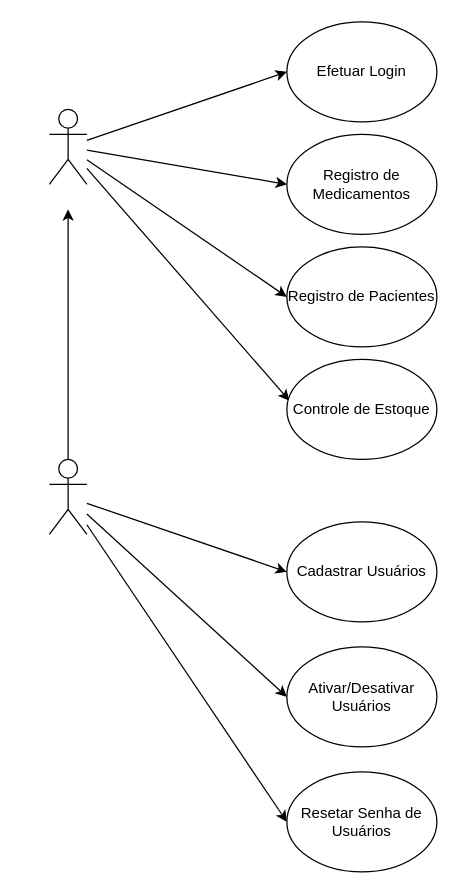
Image size: 459x894. Some labels were removed from this diagram. Here are the shapes that lost their labels. From the top down, the centre of each, then its label:
At (x=67, y=146): "Usuario".
At (x=67, y=496): "Administrador".
